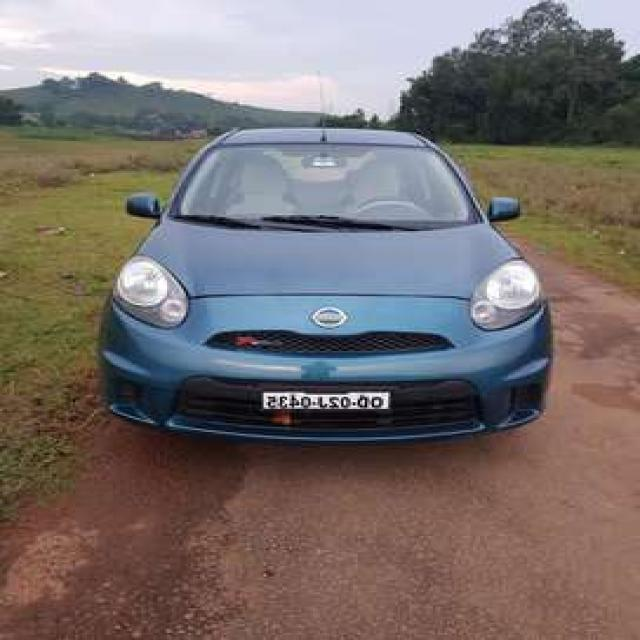license_plate: (256, 385, 396, 417)
